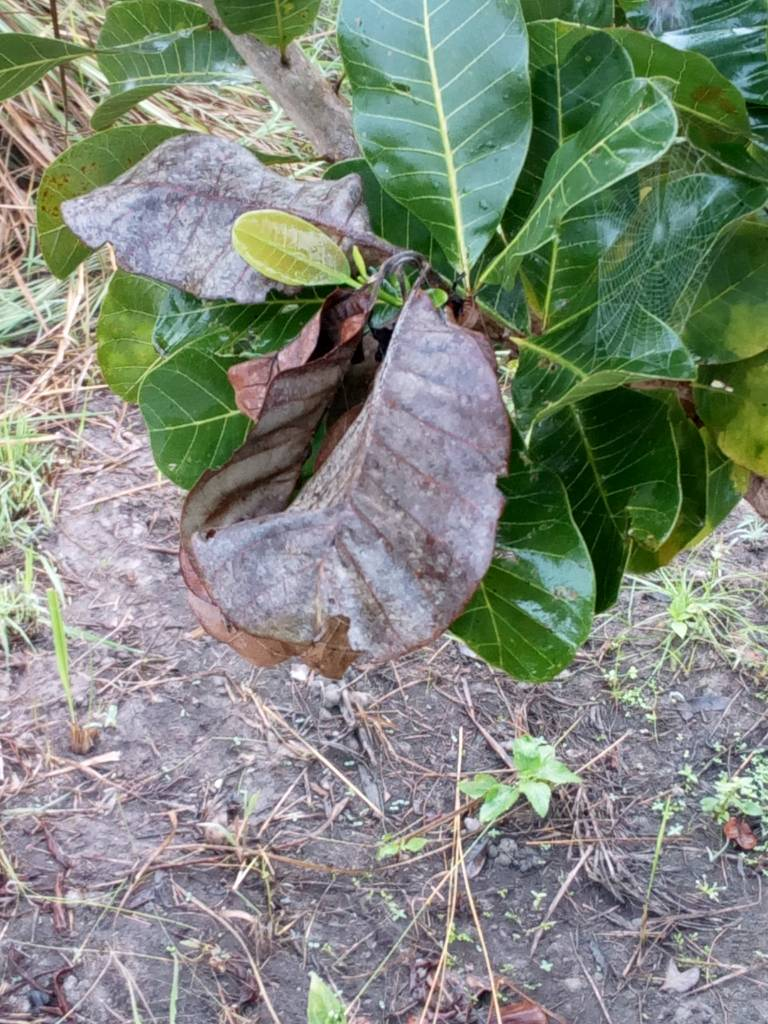Dessèchement des bourgeons: (387, 213, 494, 320)
